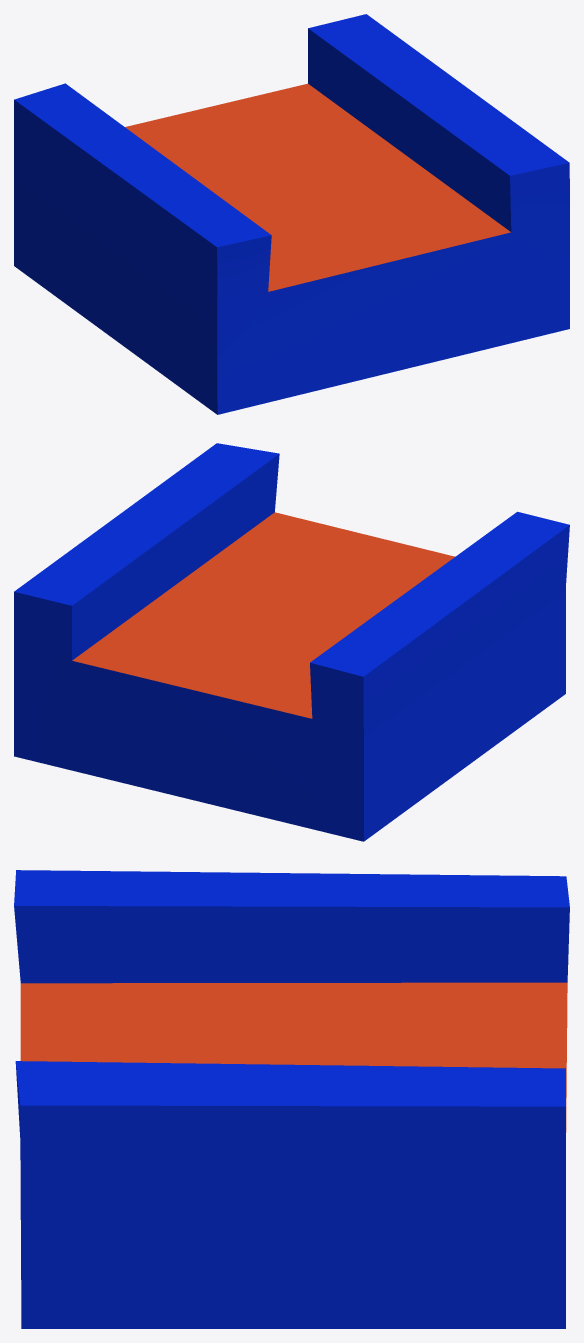
Rendered from band.fbx.
3 renders of one model, top to bottom at view 1: azimuth 30°, elevation 25°; view 2: azimuth 150°, elevation 25°; view 3: azimuth 270°, elevation 25°, orthographic. The views are drawn at different scales.
Visible parts, largest first — view 1: band; view 2: band; view 3: band.
Part boxes in pixels (box(x1,y1,x2,y2)): band: box(14, 14, 569, 414); band: box(14, 443, 569, 841); band: box(14, 870, 569, 1328).
Size of the model in its own units: 101 by 46.02 by 102.
